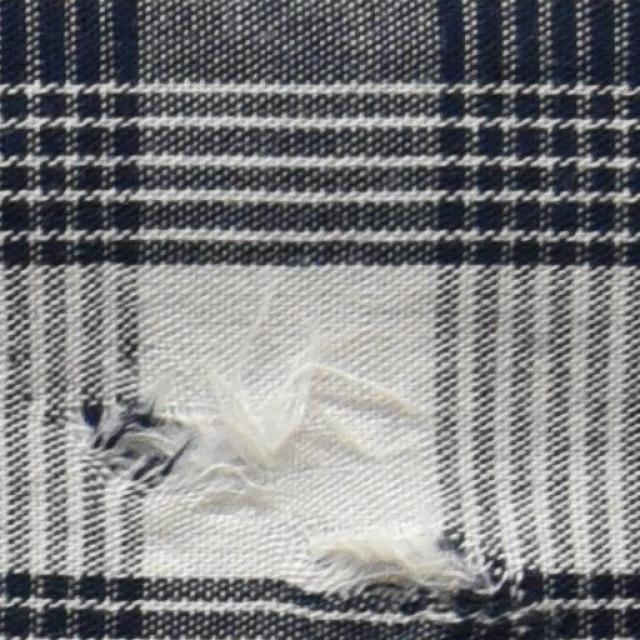Snag: (215, 332, 430, 481), (69, 384, 219, 513), (298, 522, 490, 608)
